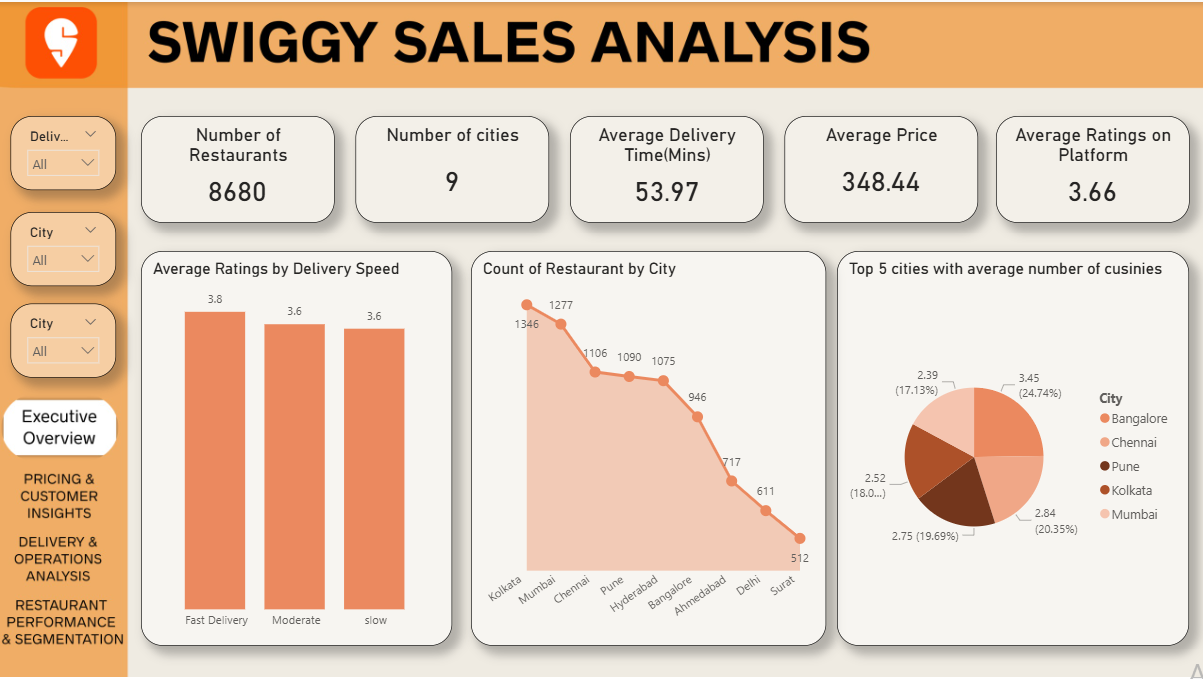

This screenshot's page, from the dashboard's own definition file:
{"tool":"powerbi","page":{"name":"Executive Overview","canvas":[1280,720],"ordinal":0},"visuals":[{"type":"card","title":"Number of Restaurants","fields":{"Values":["final.No. of Restaurants"]},"box":[150,121.7,205,113.3],"z":0},{"type":"card","title":"Average Ratings on Platform","fields":{"Values":["Avg(final.avg_ratings)"]},"box":[1056.7,121.7,205,113.3],"z":1000},{"type":"card","title":"Average Delivery Time(Mins)","fields":{"Values":["Avg(final.delivery_time)"]},"box":[605,121.7,205,113.3],"z":2000},{"type":"card","title":"Average Price","fields":{"Values":["Avg(final.price)"]},"box":[831.7,121.7,205,113.3],"z":3000},{"type":"card","title":"Number of cities","fields":{"Values":["Count(final.City)"]},"box":[376.7,121.7,205,113.3],"z":4000},{"type":"lineChart","fields":{"Category":["final.City"],"Y":["CountNonNull(final.Restaurant)"]},"box":[500,263.3,376.7,418.3],"z":5000},{"type":"columnChart","title":"Average Ratings by Delivery Speed","fields":{"Category":["final.Delivery_range"],"Y":["Avg(final.avg_ratings)"]},"box":[150,263.3,330,418.3],"z":6000},{"type":"pieChart","title":"Top 5 cities with average number of cusinies","fields":{"Y":["Avg(final.num_of_cuisines)"],"Category":["final.City"]},"box":[888.3,263.3,373.3,418.3],"z":7000},{"type":"slicer","fields":{"Values":["final.Delivery_range"]},"box":[11.7,121.7,111.7,78.3],"z":8000},{"type":"slicer","fields":{"Values":["final.City"]},"box":[11.7,223.3,111.7,78.3],"z":9000},{"type":"slicer","fields":{"Values":["final.City"]},"box":[11.7,320,111.7,78.3],"z":10000}]}

Visuals, with their boxes in screenshot pixels (x1, y1, x2, y2), scaled from the page's 1280x720 canvas onto the 1203x679 screenshot:
"Number of Restaurants" card: (left=141, top=115, right=334, bottom=222)
"Average Ratings on Platform" card: (left=993, top=115, right=1186, bottom=222)
"Average Delivery Time(Mins)" card: (left=569, top=115, right=761, bottom=222)
"Average Price" card: (left=782, top=115, right=974, bottom=222)
"Number of cities" card: (left=354, top=115, right=547, bottom=222)
lineChart - final.City x CountNonNull(final.Restaurant): (left=470, top=248, right=824, bottom=643)
"Average Ratings by Delivery Speed" columnChart: (left=141, top=248, right=451, bottom=643)
"Top 5 cities with average number of cusinies" pieChart: (left=835, top=248, right=1186, bottom=643)
slicer - final.Delivery_range: (left=11, top=115, right=116, bottom=189)
slicer - final.City: (left=11, top=211, right=116, bottom=284)
slicer - final.City: (left=11, top=302, right=116, bottom=376)
